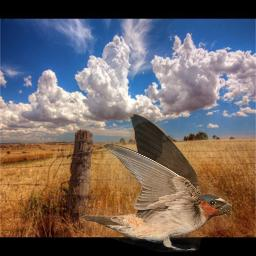Swallow: (80, 113, 232, 252)
